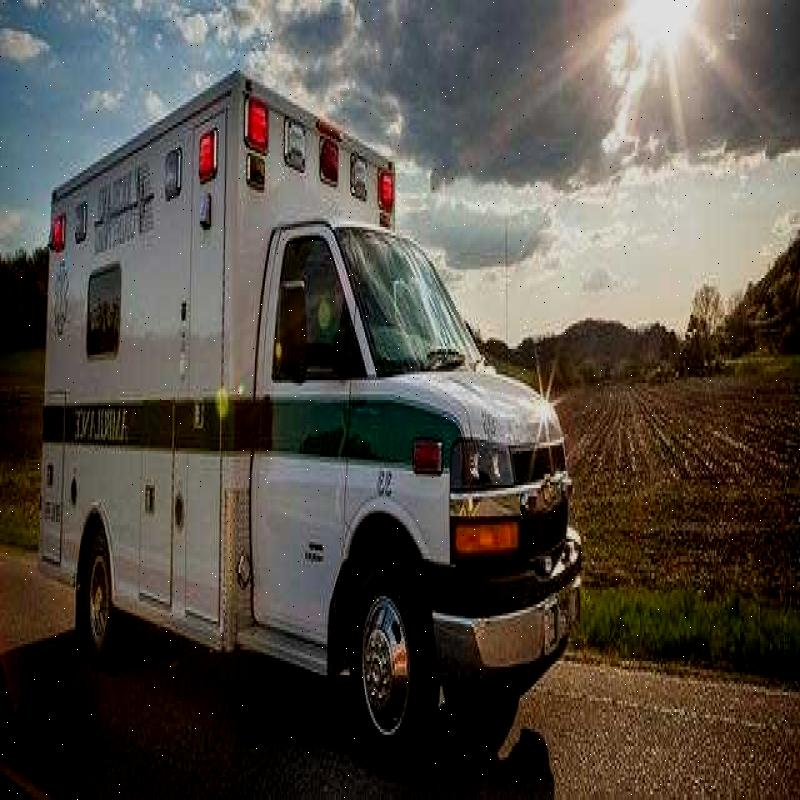AmbulanceSiren: (236, 109, 402, 192)
